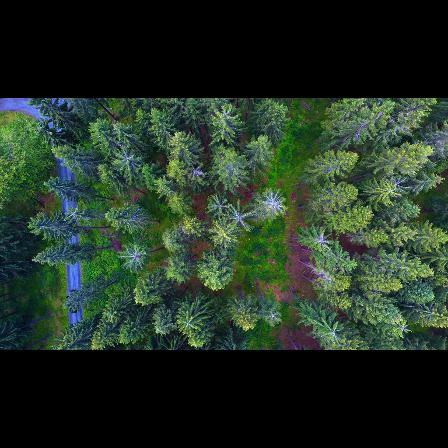Sick: (257, 185, 290, 219), (110, 143, 141, 174), (307, 225, 340, 254), (227, 202, 259, 231), (119, 243, 148, 273), (384, 171, 413, 195), (206, 192, 230, 214), (183, 161, 208, 180)
